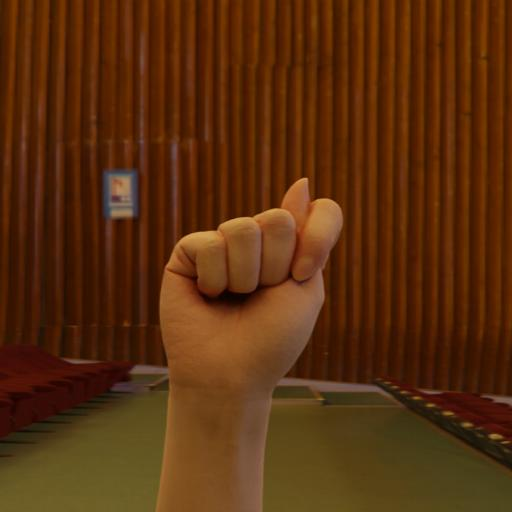T: (120, 146, 357, 497)
